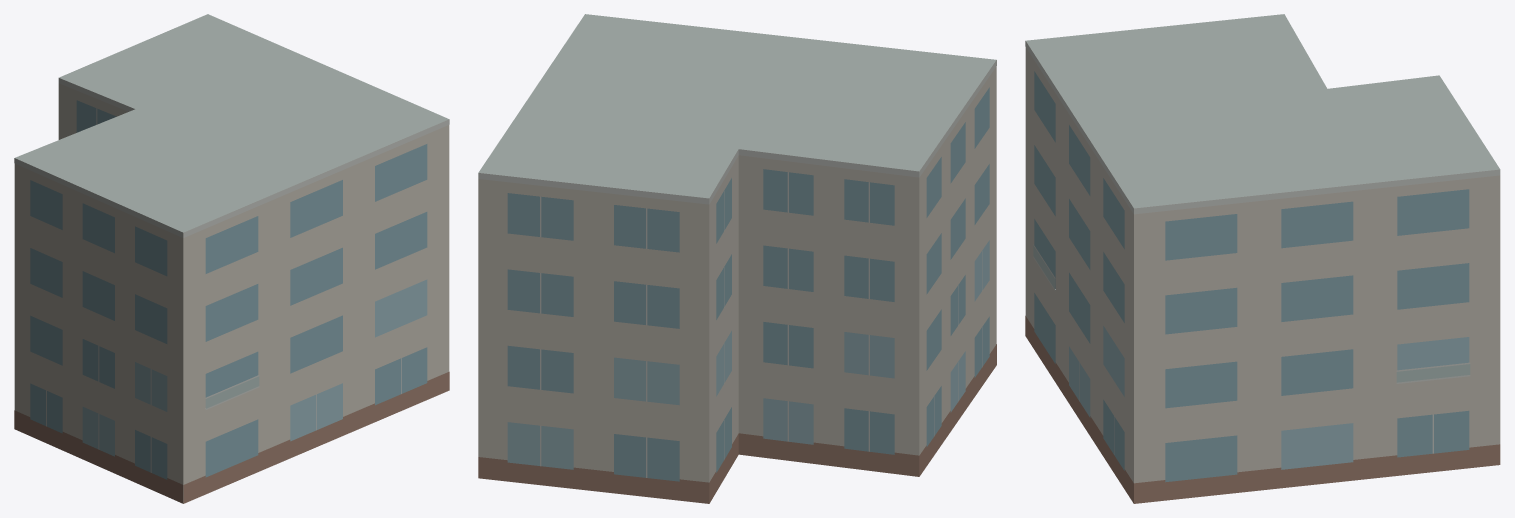
The model's file is survey-upis-32569353.glb.
3 renders of one model, left to right at view 1: azimuth 30°, elevation 25°; view 2: azimuth 150°, elevation 25°; view 3: azimuth 270°, elevation 25°, orthographic. The views are drawn at different scales.
Visible parts, largest first — view 1: survey-upis-32569353.tmp; view 2: survey-upis-32569353.tmp; view 3: survey-upis-32569353.tmp.
Part boxes in pixels (<box>): survey-upis-32569353.tmp: <box>14,14,449,503</box>; survey-upis-32569353.tmp: <box>478,14,996,503</box>; survey-upis-32569353.tmp: <box>1025,14,1500,503</box>.
Bounding box in the file's own units: 17.24 × 12.2 × 17.78.
